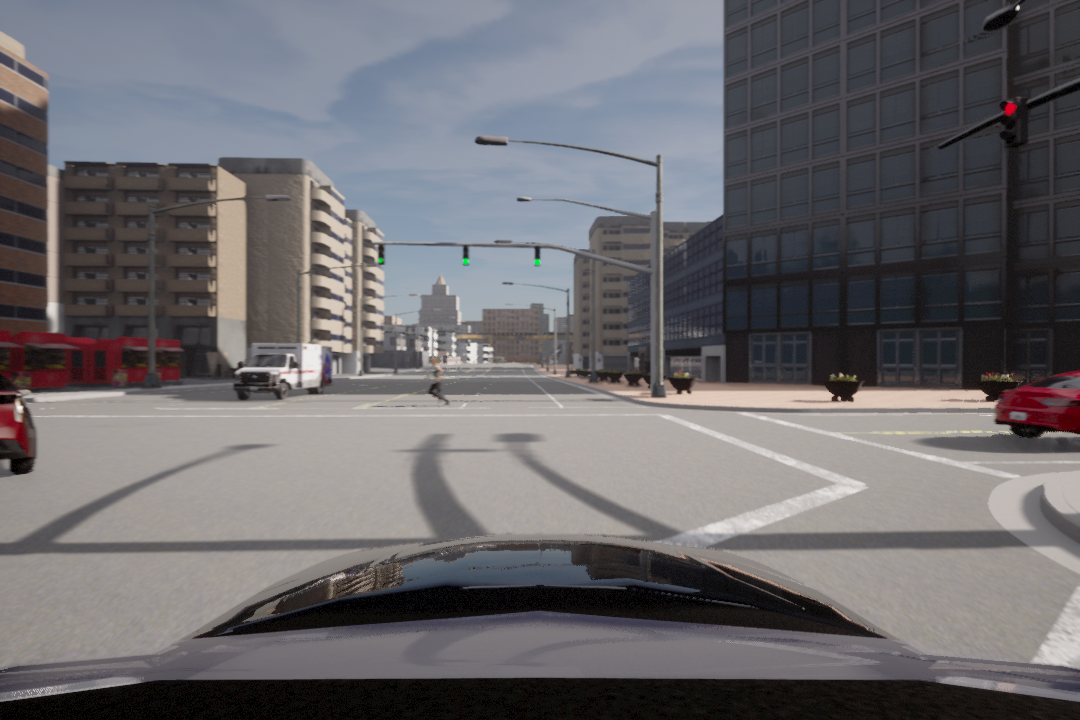TrafficLight: (994, 97, 1030, 151), (457, 242, 469, 268), (533, 243, 544, 271), (375, 242, 386, 267)
